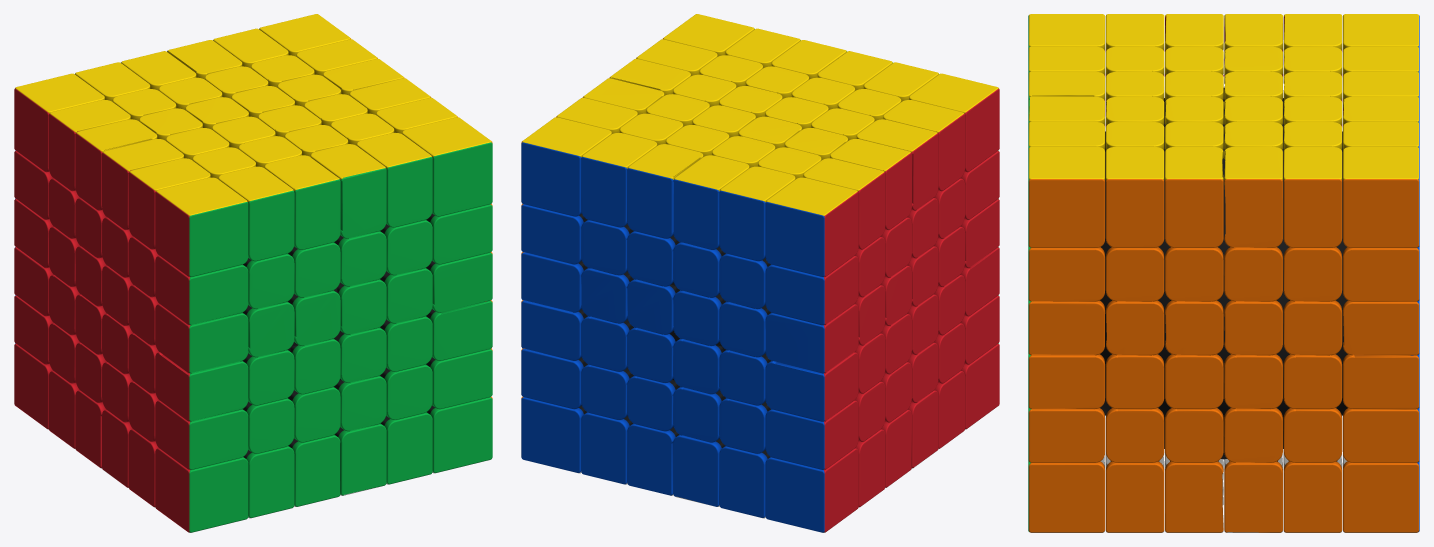
The picture shows the model from 3 angles, left to right: view 1: azimuth 30°, elevation 25°; view 2: azimuth 150°, elevation 25°; view 3: azimuth 270°, elevation 25°; orthographic projection. The views are drawn at different scales.
Visible parts, largest first — view 1: piece_-2.5,2.5,2.5, piece_-2.5,-2.5,2.5, piece_2.5,2.5,2.5, piece_-2.5,-0.5,2.5, piece_-2.5,-1.5,2.5, piece_-2.5,0.5,2.5, piece_-2.5,1.5,2.5, piece_1.5,2.5,2.5, piece_-1.5,2.5,2.5, piece_0.5,2.5,2.5, piece_-0.5,2.5,2.5, piece_-2.5,2.5,-2.5 (+79 smaller); view 2: piece_-2.5,2.5,-2.5, piece_-2.5,-2.5,-2.5, piece_2.5,2.5,-2.5, piece_-2.5,-0.5,-2.5, piece_-2.5,-1.5,-2.5, piece_-2.5,1.5,-2.5, piece_-2.5,0.5,-2.5, piece_-1.5,2.5,-2.5, piece_0.5,2.5,-2.5, piece_1.5,2.5,-2.5, piece_-0.5,2.5,-2.5, piece_-2.5,2.5,2.5 (+79 smaller); view 3: piece_2.5,2.5,-2.5, piece_2.5,2.5,2.5, piece_2.5,2.5,-1.5, piece_2.5,2.5,1.5, piece_2.5,2.5,0.5, piece_2.5,2.5,-0.5, piece_2.5,-2.5,2.5, piece_2.5,-2.5,-2.5, piece_2.5,-0.5,-2.5, piece_2.5,-2.5,1.5, piece_2.5,-2.5,-1.5, piece_2.5,-0.5,2.5 (+55 smaller).
Boxes of the visible parts, box(x1,y1,x2,y2) form: piece_-2.5,2.5,2.5: box(155, 177, 248, 276); piece_-2.5,-2.5,2.5: box(155, 448, 248, 532); piece_2.5,2.5,2.5: box(402, 117, 492, 216); piece_-2.5,-0.5,2.5: box(155, 352, 248, 421); piece_-2.5,-1.5,2.5: box(155, 400, 248, 469); piece_-2.5,0.5,2.5: box(155, 304, 248, 373); piece_-2.5,1.5,2.5: box(155, 256, 248, 325); piece_1.5,2.5,2.5: box(356, 132, 432, 227); piece_-1.5,2.5,2.5: box(218, 166, 294, 261); piece_0.5,2.5,2.5: box(310, 144, 386, 238); piece_-0.5,2.5,2.5: box(264, 155, 340, 249); piece_-2.5,2.5,-2.5: box(14, 73, 104, 172); piece_-2.5,2.5,-2.5: box(765, 177, 858, 276); piece_-2.5,-2.5,-2.5: box(765, 448, 858, 532); piece_2.5,2.5,-2.5: box(521, 117, 611, 216); piece_-2.5,-0.5,-2.5: box(765, 352, 858, 421); piece_-2.5,-1.5,-2.5: box(765, 400, 858, 469); piece_-2.5,1.5,-2.5: box(765, 256, 858, 325); piece_-2.5,0.5,-2.5: box(765, 304, 858, 373); piece_-1.5,2.5,-2.5: box(719, 166, 795, 261); piece_0.5,2.5,-2.5: box(627, 144, 703, 238); piece_1.5,2.5,-2.5: box(581, 132, 657, 227); piece_-0.5,2.5,-2.5: box(673, 155, 749, 249); piece_-2.5,2.5,2.5: box(909, 73, 999, 172); piece_2.5,2.5,-2.5: box(1343, 146, 1419, 247); piece_2.5,2.5,2.5: box(1028, 146, 1104, 247); piece_2.5,2.5,-1.5: box(1283, 146, 1342, 247); piece_2.5,2.5,1.5: box(1105, 146, 1164, 247); piece_2.5,2.5,0.5: box(1165, 146, 1223, 247); piece_2.5,2.5,-0.5: box(1224, 147, 1282, 247); piece_2.5,-2.5,2.5: box(1028, 461, 1104, 532); piece_2.5,-2.5,-2.5: box(1343, 461, 1419, 532); piece_2.5,-0.5,-2.5: box(1343, 354, 1419, 409); piece_2.5,-2.5,1.5: box(1105, 461, 1164, 532); piece_2.5,-2.5,-1.5: box(1283, 461, 1342, 532); piece_2.5,-0.5,2.5: box(1028, 354, 1104, 409).
Bounding box in the file's own units: 2 × 2 × 2.
